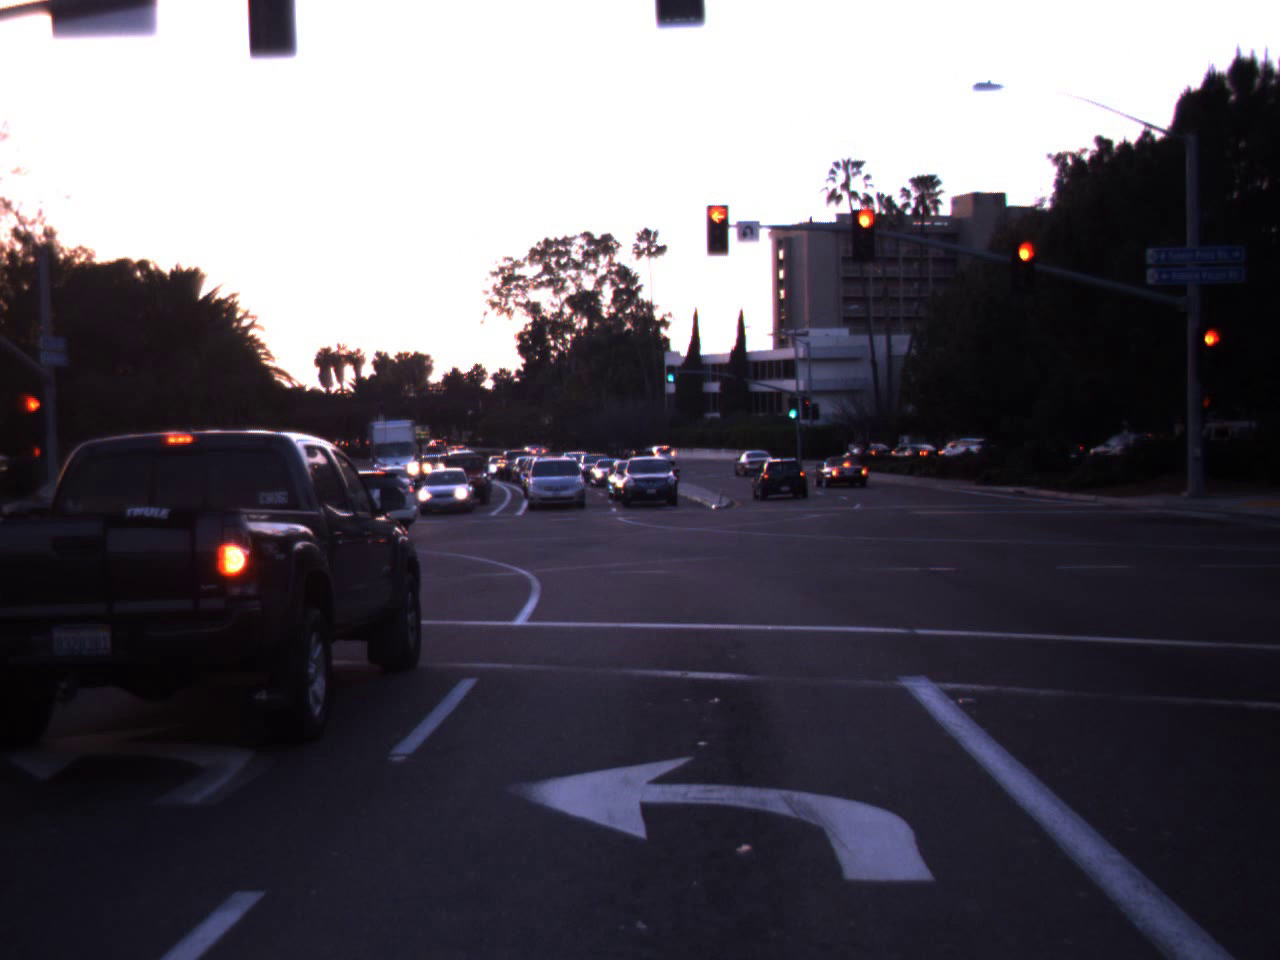go: (784, 389, 802, 419), (663, 357, 678, 382)
stop: (690, 198, 744, 270), (845, 198, 887, 283), (1005, 236, 1047, 308), (1194, 325, 1230, 383), (16, 392, 52, 446)
